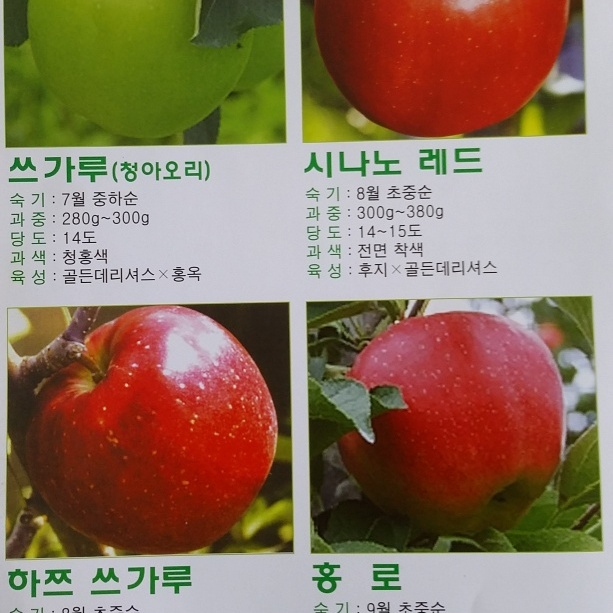apple: (43, 306, 264, 554), (341, 308, 567, 526), (314, 1, 568, 141), (23, 1, 259, 141)
